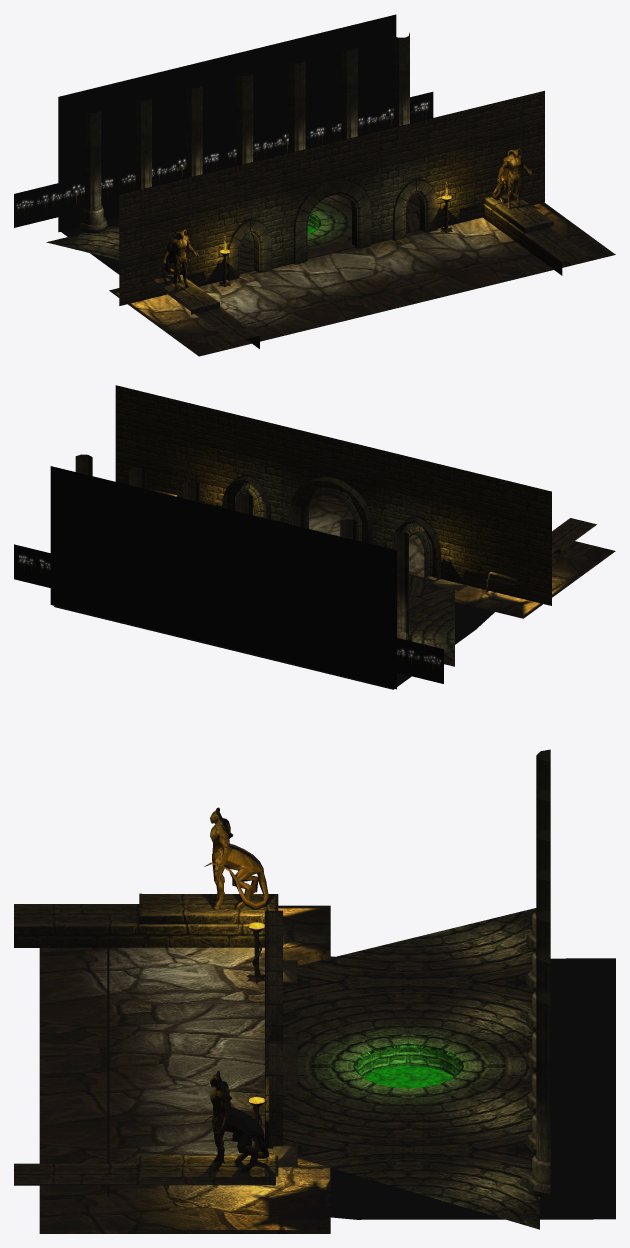
The model's file is UMK3iOSBalcony.glb.
The picture shows the model from 3 angles, top to bottom: view 1: azimuth 30°, elevation 25°; view 2: azimuth 150°, elevation 25°; view 3: azimuth 270°, elevation 25°; orthographic projection. The views are drawn at different scales.
Parts seen in each view (by area): view 1: 3_backfloor, 1_Box004, 0_Plane002, Statues, Statues.001; view 2: 3_backfloor, 1_Box004, 0_Plane002, Statues.001; view 3: 3_backfloor, 0_Plane002, Statues.001, Statues, 1_Box004, FloorParts, Plane.
Boxes of the visible parts, box(x1,y1,x2,y2) form: 3_backfloor: box(14, 14, 532, 331); 1_Box004: box(119, 90, 544, 305); 0_Plane002: box(109, 202, 615, 356); Statues: box(483, 147, 588, 275); Statues.001: box(153, 229, 259, 348); 3_backfloor: box(14, 454, 554, 689); 1_Box004: box(115, 385, 551, 605); 0_Plane002: box(242, 492, 615, 618); Statues.001: box(486, 518, 596, 592); 3_backfloor: box(107, 749, 615, 1229); 0_Plane002: box(39, 905, 330, 1233); Statues.001: box(14, 807, 278, 947); Statues: box(14, 1071, 278, 1185); 1_Box004: box(265, 910, 282, 1148); FloorParts: box(273, 960, 297, 1167); Plane: box(363, 1065, 453, 1088).
Size of what is drawn, in the model's own units: 26.79 by 8.15 by 20.35.
Materials: 11 (11 with a texture image).
